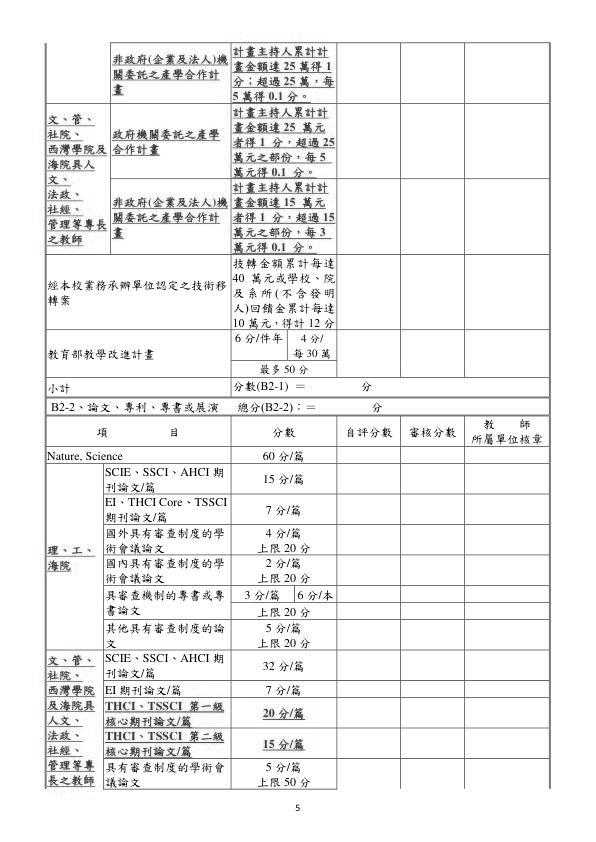table: (33, 34, 570, 795)
